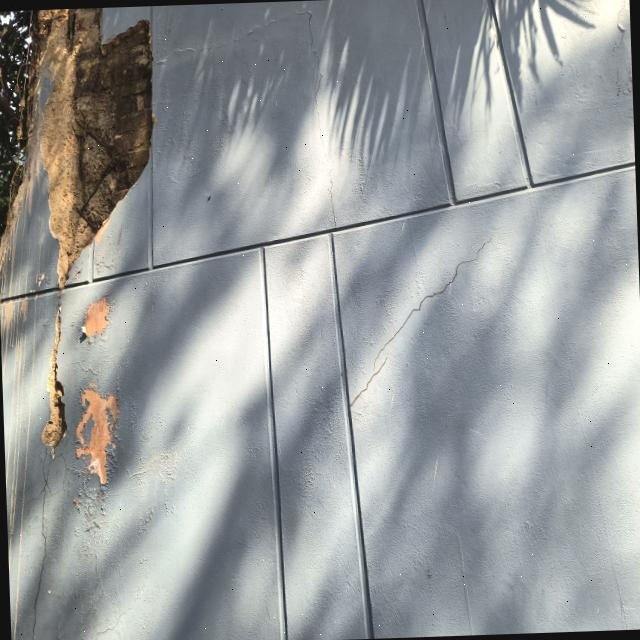crack: (373, 235, 493, 371), (295, 5, 338, 230), (28, 445, 50, 640), (350, 349, 392, 411), (92, 605, 132, 640)
peeling: (72, 389, 119, 554), (41, 295, 66, 456), (85, 296, 109, 336)
spalling: (25, 7, 152, 287)
